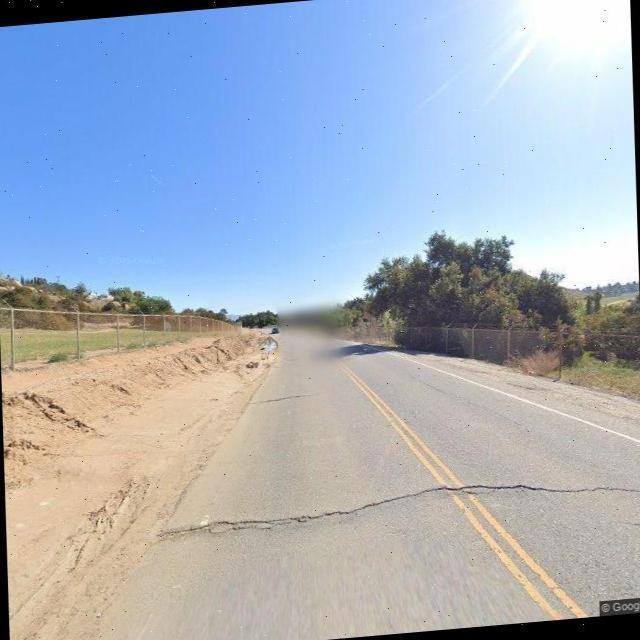GRIETA: (154, 484, 639, 536), (251, 394, 311, 403)
